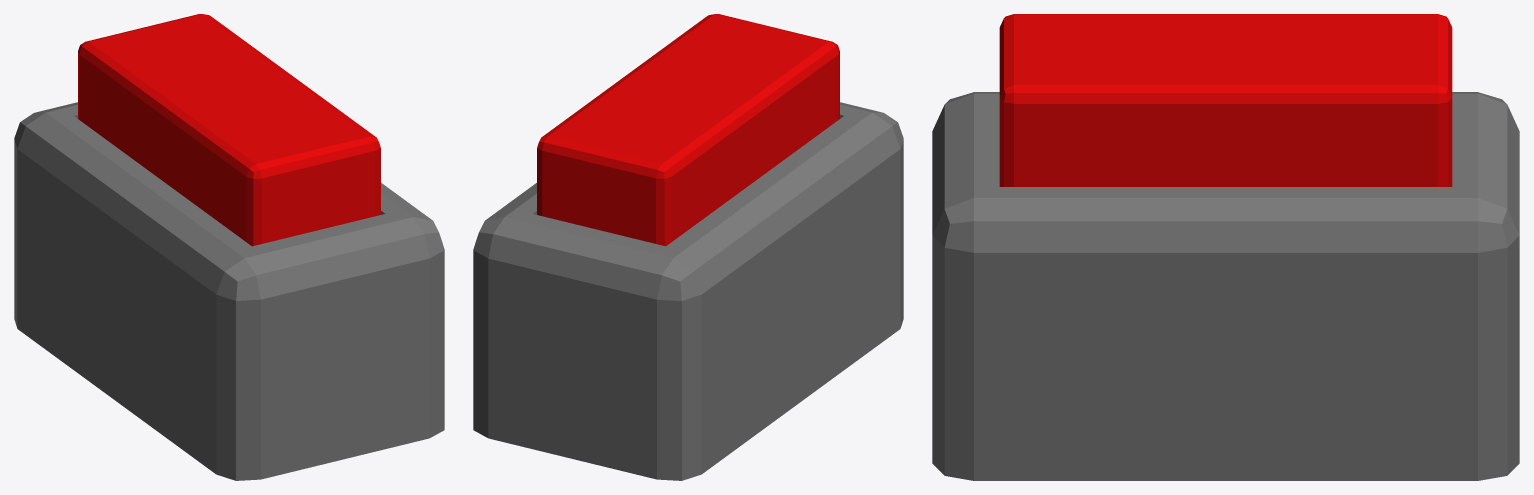
Rendered from BotonISSSTE.fbx.
The picture shows the model from 3 angles, left to right: view 1: azimuth 30°, elevation 25°; view 2: azimuth 150°, elevation 25°; view 3: azimuth 270°, elevation 25°; orthographic projection. The views are drawn at different scales.
Parts seen in each view (by area): view 1: Cube, Cube.001; view 2: Cube, Cube.001; view 3: Cube, Cube.001.
Part boxes in pixels (box(x1,y1,x2,y2)): Cube: box(14, 102, 444, 480); Cube.001: box(78, 14, 380, 246); Cube: box(473, 102, 903, 480); Cube.001: box(537, 14, 839, 246); Cube: box(932, 92, 1519, 480); Cube.001: box(999, 14, 1452, 186).
Size of the model in its own units: 112 by 136 by 200.
